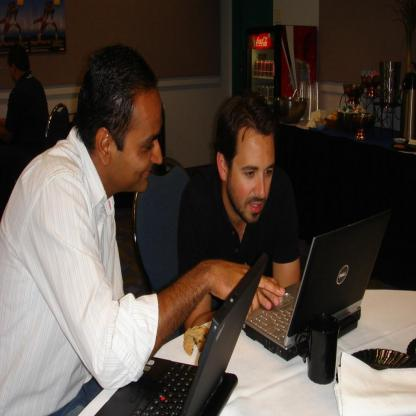board: (95, 250, 267, 416), (241, 214, 385, 380), (266, 60, 270, 77), (270, 60, 274, 77), (254, 60, 258, 76), (258, 60, 262, 76), (263, 60, 266, 76)
